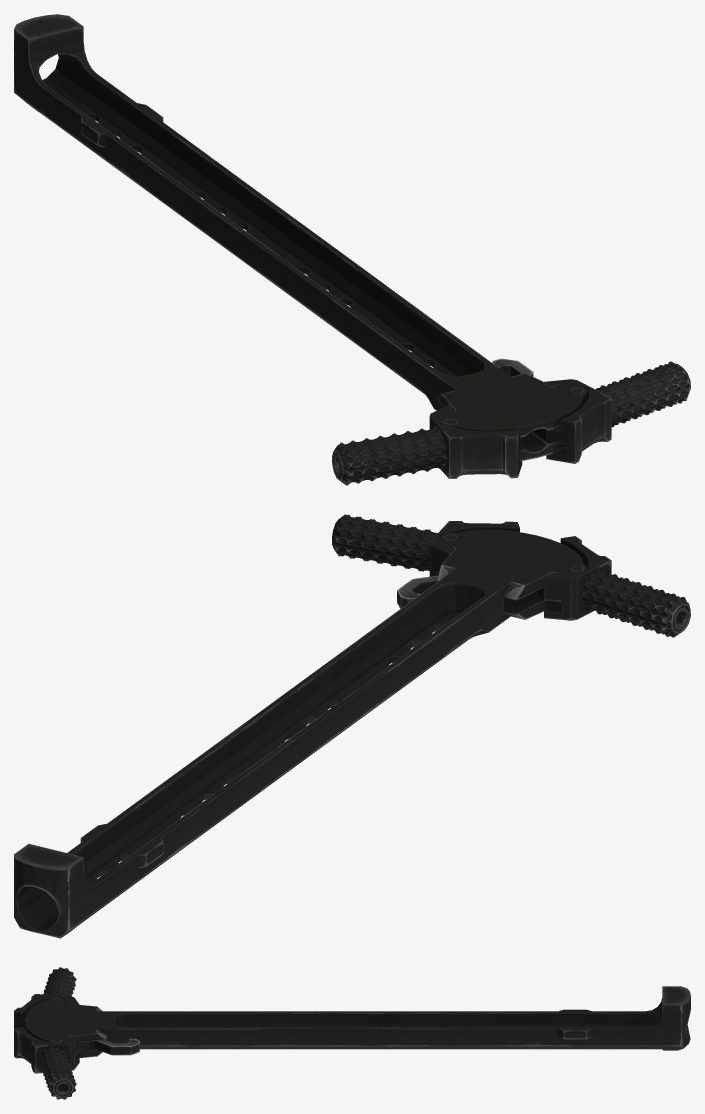
The picture shows the model from 3 angles, top to bottom: view 1: azimuth 30°, elevation 25°; view 2: azimuth 150°, elevation 25°; view 3: azimuth 270°, elevation 25°; orthographic projection. The views are drawn at different scales.
Visible parts, largest first — view 1: TW_5f633ff5c444ce7e3c30a006_PZ_Import; view 2: TW_5f633ff5c444ce7e3c30a006_PZ_Import; view 3: TW_5f633ff5c444ce7e3c30a006_PZ_Import.
Boxes of the visible parts, x1,y1,x2,y2 form: TW_5f633ff5c444ce7e3c30a006_PZ_Import: (14, 14, 690, 485); TW_5f633ff5c444ce7e3c30a006_PZ_Import: (14, 514, 690, 938); TW_5f633ff5c444ce7e3c30a006_PZ_Import: (14, 967, 690, 1099).
Size of the model in its own units: 0.039 by 0.0993 by 0.00843.
Materials: 1 (1 with a texture image).
